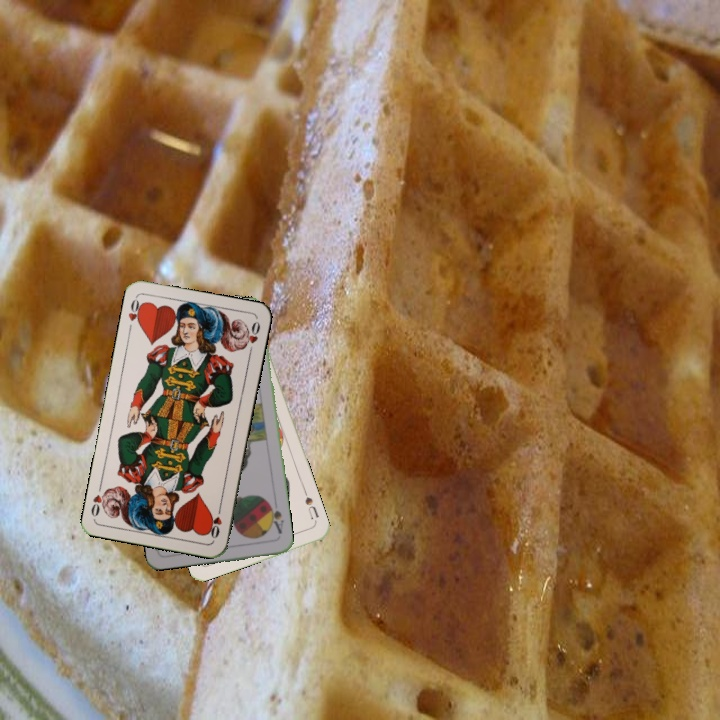HO: (124, 294, 146, 328), (205, 502, 224, 541)
SA: (265, 500, 286, 537)
SU: (300, 486, 321, 526)
